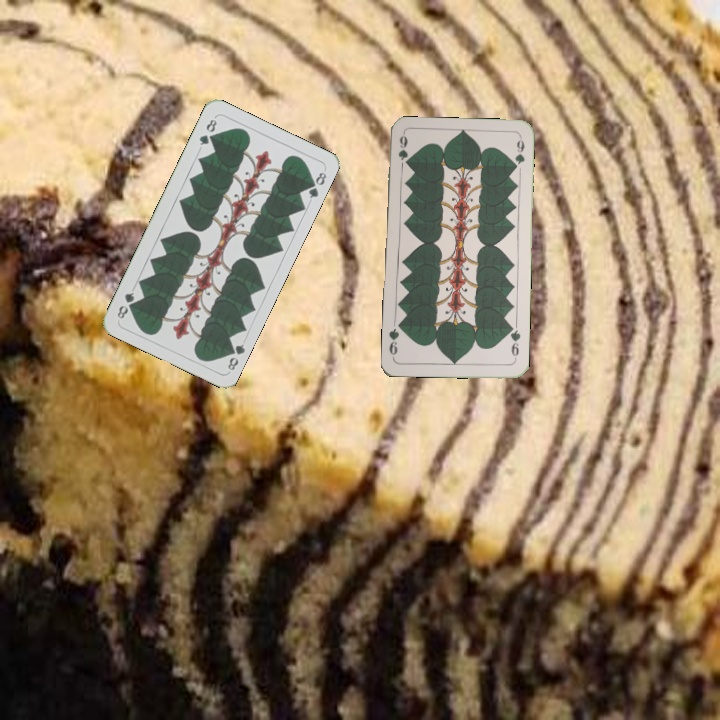G8: (223, 340, 248, 373), (195, 115, 219, 148)
G9: (506, 322, 523, 363), (394, 132, 409, 163)
